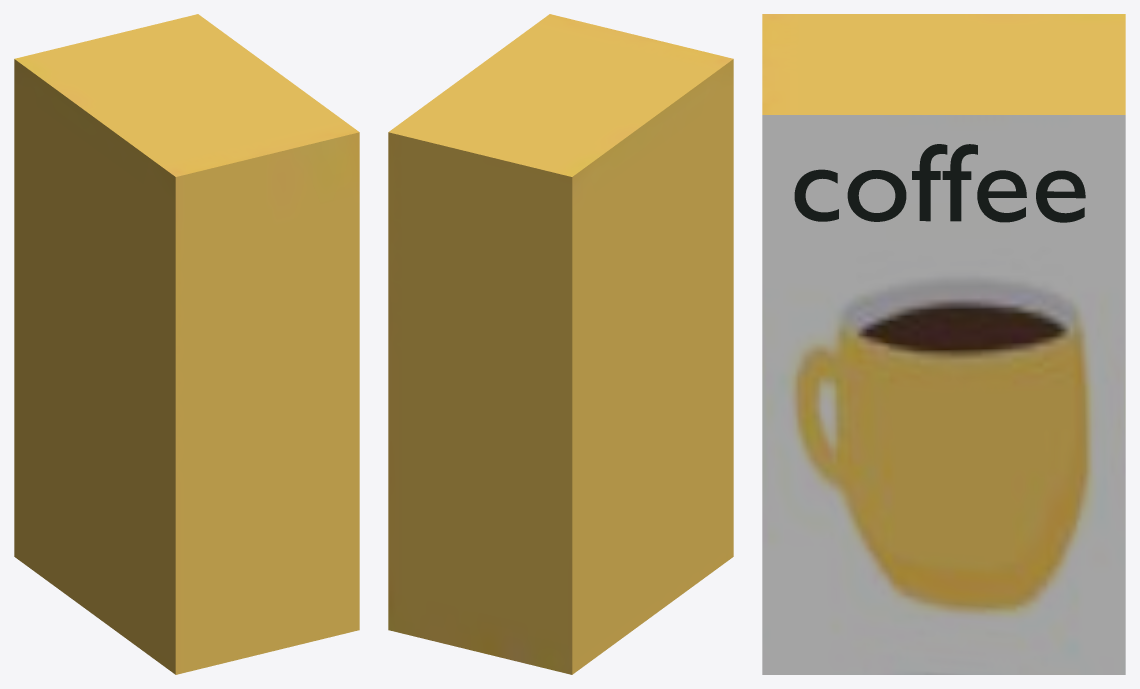
The model's file is coffee 6.fbx.
The picture shows the model from 3 angles, left to right: view 1: azimuth 30°, elevation 25°; view 2: azimuth 150°, elevation 25°; view 3: azimuth 270°, elevation 25°; orthographic projection. The views are drawn at different scales.
Visible parts, largest first — view 1: Cube.002; view 2: Cube.002; view 3: Cube.002, Text.002.
Boxes of the visible parts, bbox=[...] form: Cube.002: bbox=[14, 14, 359, 674]; Cube.002: bbox=[388, 14, 733, 674]; Cube.002: bbox=[762, 14, 1125, 674]; Text.002: bbox=[794, 144, 1085, 222].
Size of the model in its own units: 38.09 by 96.15 by 56.55.
2 materials, 1 textured.
